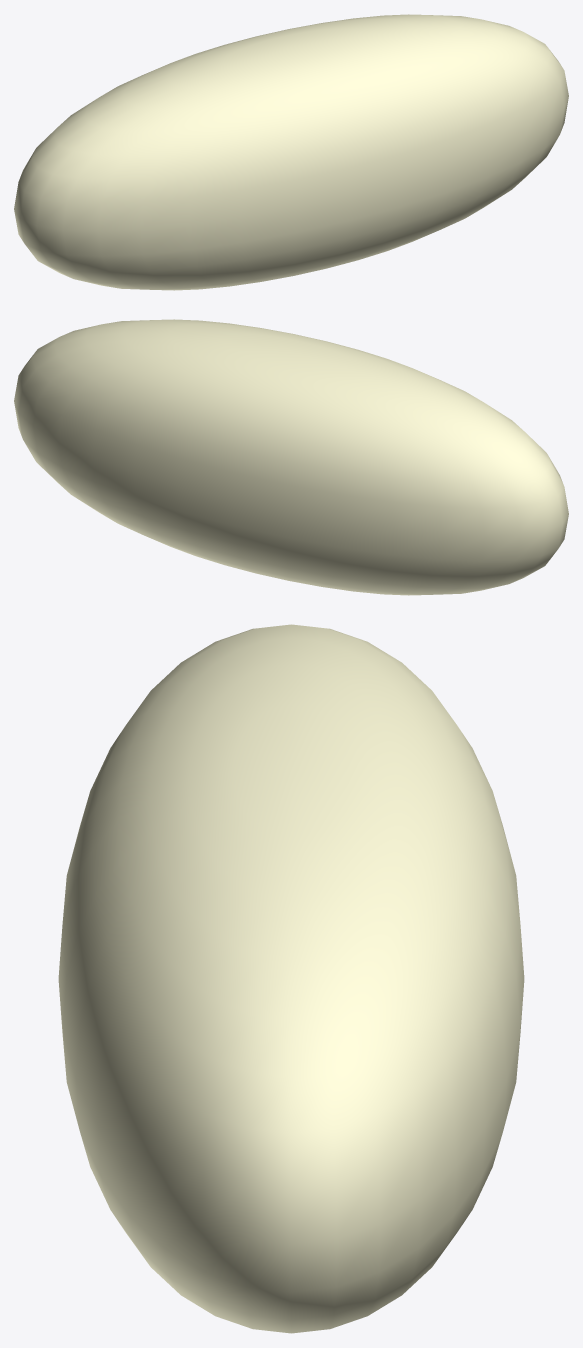
3 renders of one model, top to bottom at view 1: azimuth 30°, elevation 25°; view 2: azimuth 150°, elevation 25°; view 3: azimuth 270°, elevation 25°, orthographic. The views are drawn at different scales.
Parts seen in each view (by area): view 1: item; view 2: item; view 3: item.
Part boxes in pixels (x1,y1,x2,y2): item: [14, 14, 568, 290]; item: [14, 319, 568, 595]; item: [58, 624, 524, 1333].
Size of the model in its own units: 0.0253 by 0.00939 by 0.00939.
